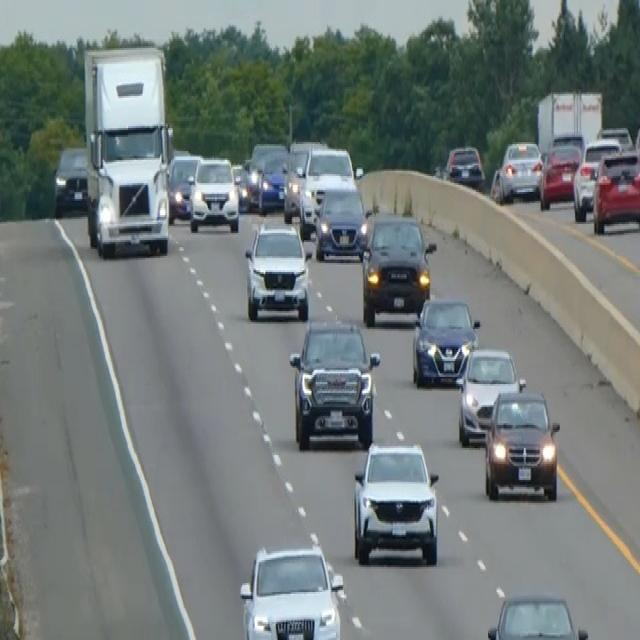car: (288, 316, 380, 450), (351, 439, 440, 565), (238, 542, 344, 638), (483, 386, 560, 501), (360, 208, 434, 325), (456, 345, 525, 446), (243, 220, 310, 322), (411, 294, 480, 388), (298, 146, 355, 236), (486, 590, 588, 638), (314, 180, 368, 262), (572, 135, 621, 221), (592, 146, 639, 234), (188, 155, 239, 233), (282, 138, 326, 220), (497, 137, 543, 201), (539, 140, 581, 210), (53, 144, 88, 215), (167, 151, 201, 221), (256, 151, 288, 213), (445, 142, 485, 188), (231, 160, 251, 210), (596, 125, 633, 151)
lorry: (82, 42, 173, 258)
